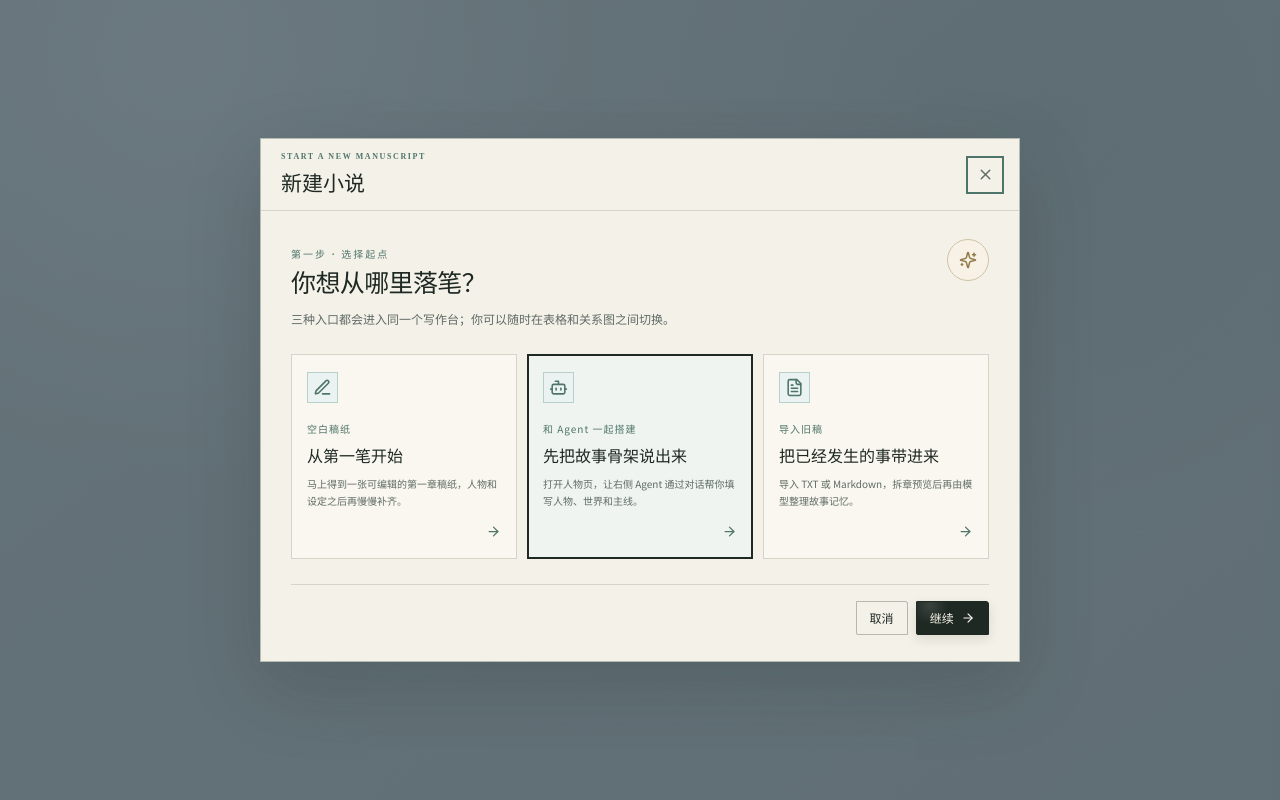
Test case: NewProjectWizard › keeps the same immediate interaction contract under reduced motion
Click the button "继续".
click(952, 618)  # box x1=916 y1=601 x2=989 y2=635
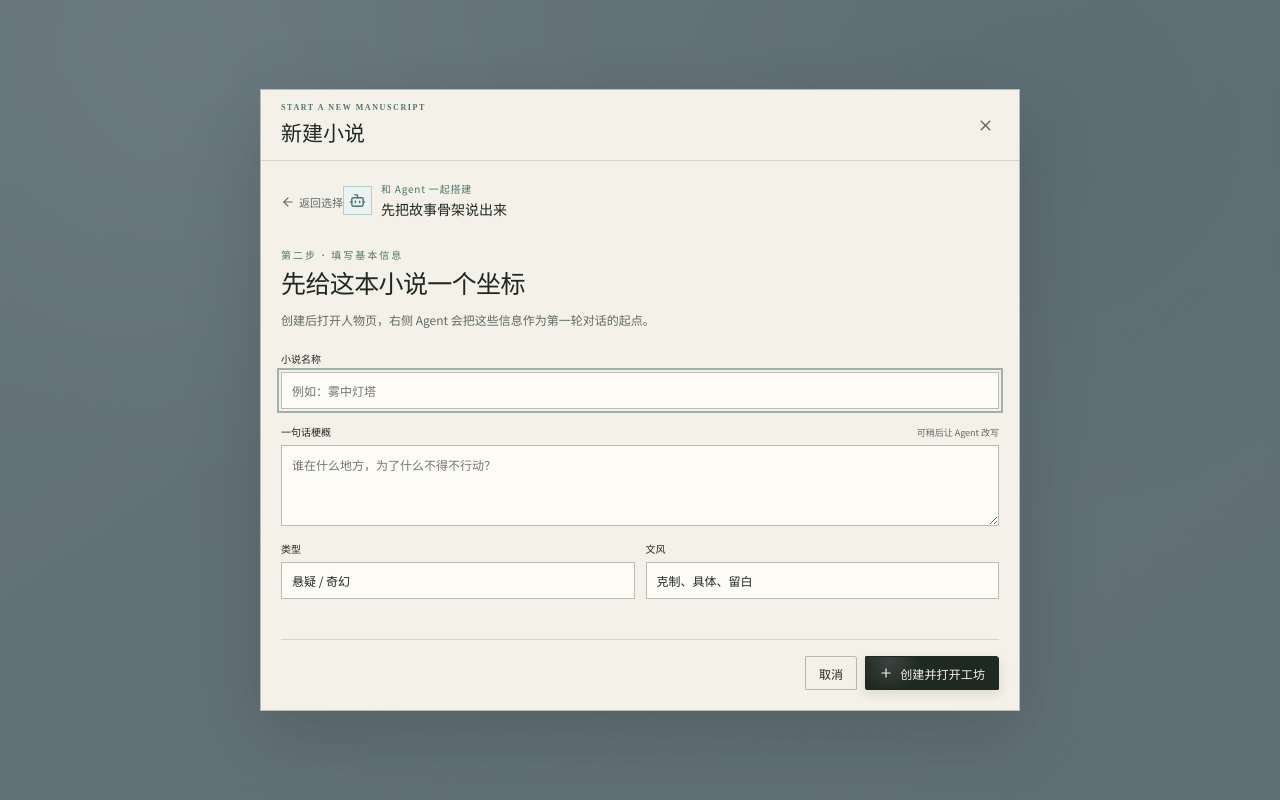
Expected: the heading "先给这本小说一个坐标" is shown, x1=281 y1=271 x2=525 y2=298
